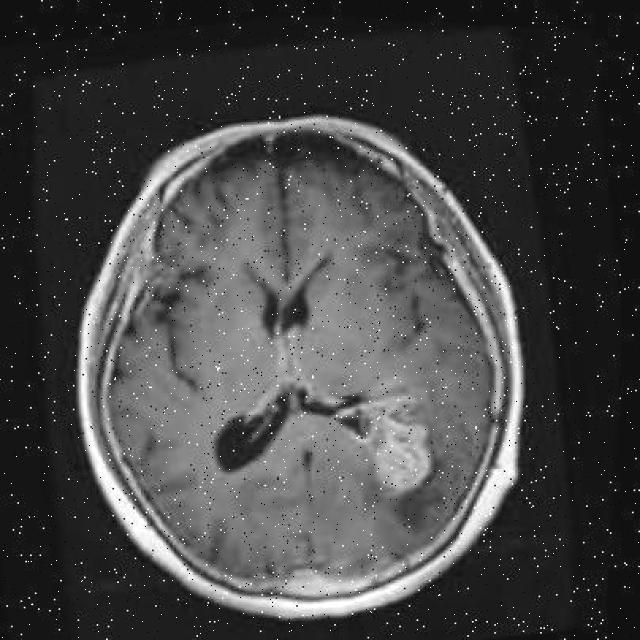LMCI: (336, 359, 466, 500)
